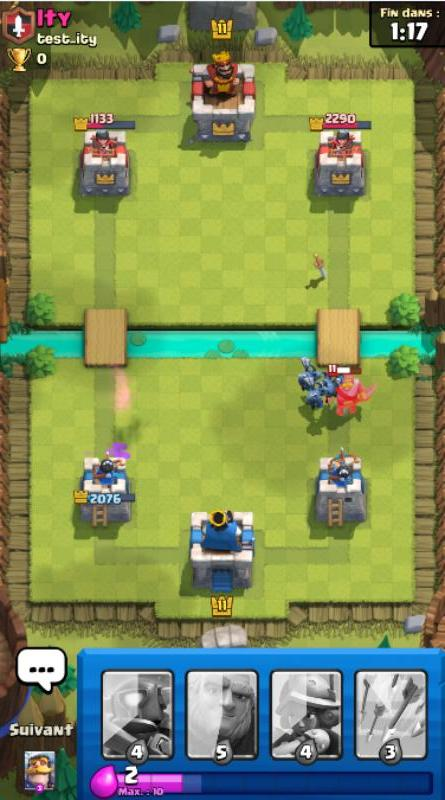chevalier: (324, 363, 377, 416)
gargouille: (296, 356, 322, 391), (305, 381, 328, 411), (319, 372, 341, 403)
